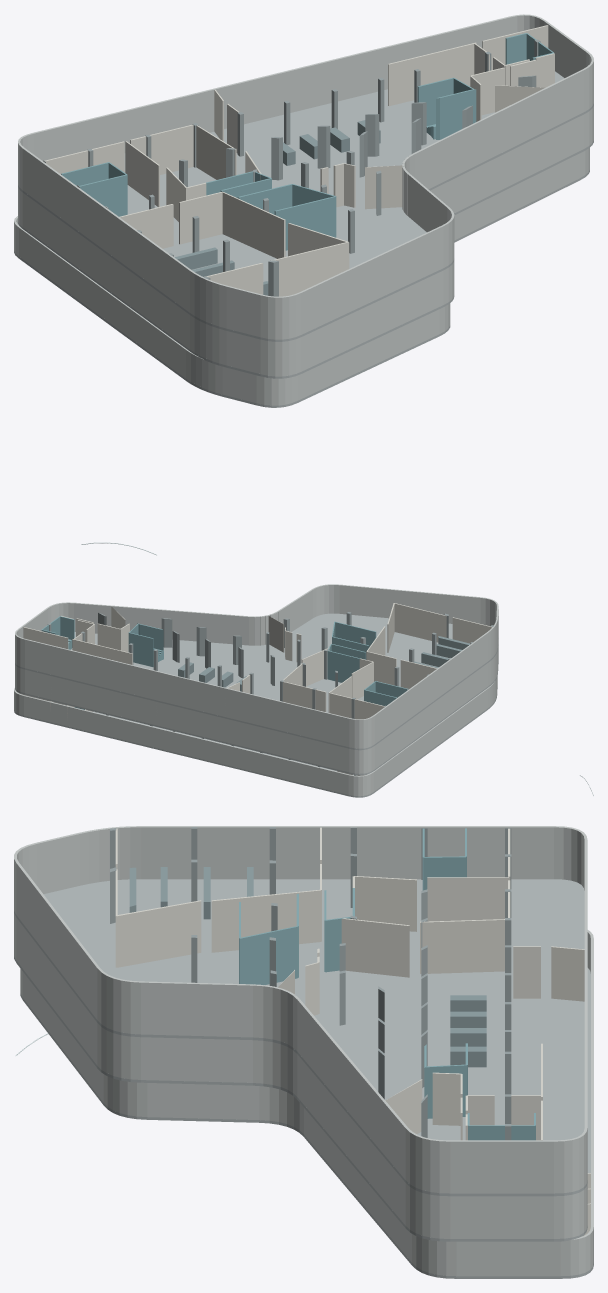
File: zonhe_under.glb
3 views of the same model, one above another, from view 1: azimuth 30°, elevation 25°; view 2: azimuth 150°, elevation 25°; view 3: azimuth 270°, elevation 25° (orthographic). The views are drawn at different scales.
Parts seen in each view (by area): view 1: B1F, B2F, B3F; view 2: B1F, B2F, B3F; view 3: B1F, B2F, B3F.
Part boxes in pixels (x1=…): B1F: x1=18, y1=14, x2=593, y2=341; B2F: x1=18, y1=106, x2=593, y2=378; B3F: x1=14, y1=148, x2=589, y2=407; B1F: x1=15, y1=584, x2=498, y2=750; B2F: x1=15, y1=639, x2=498, y2=775; B3F: x1=14, y1=676, x2=497, y2=797; B1F: x1=14, y1=826, x2=587, y2=1196; B2F: x1=14, y1=913, x2=587, y2=1241; B3F: x1=20, y1=930, x2=593, y2=1278.
Bounding box in the file's own units: 83.75 × 27.73 × 51.97.
